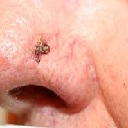Carcinoma: (32, 34, 52, 65)
